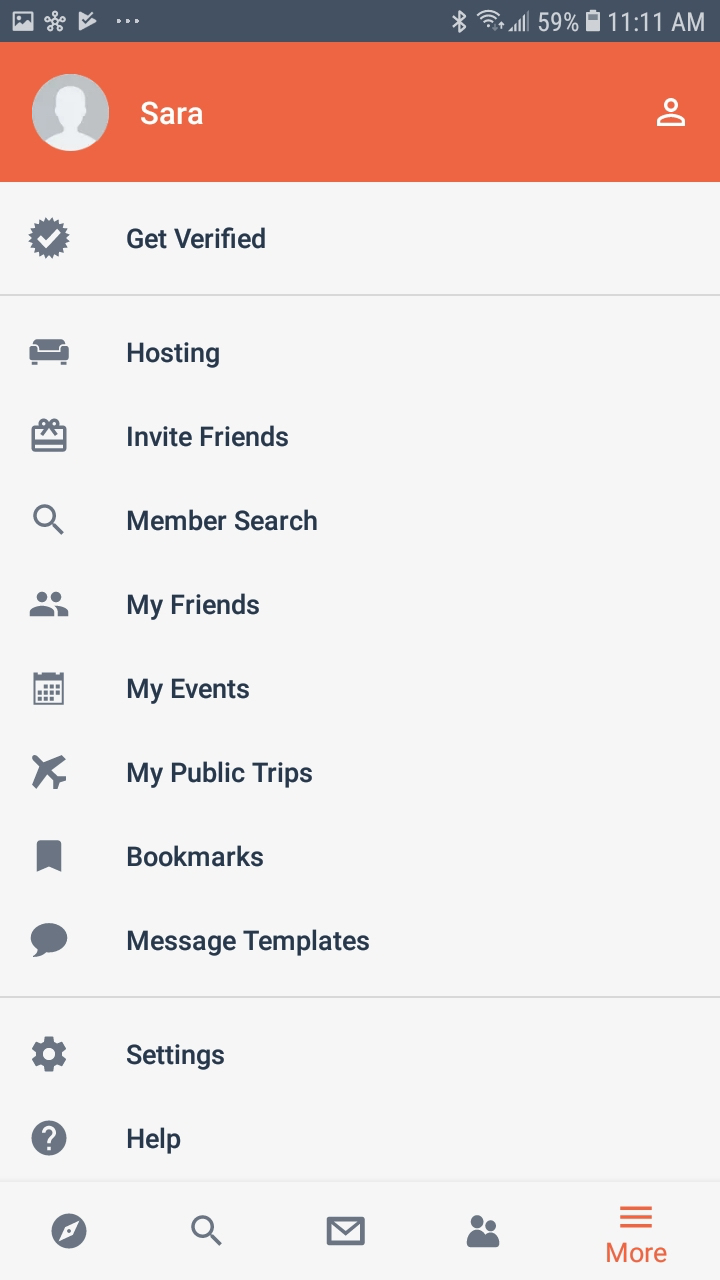Icon: (32, 74, 110, 153), (29, 217, 72, 260), (31, 1120, 68, 1156), (31, 923, 69, 958), (52, 1213, 88, 1249), (31, 418, 68, 453), (32, 1036, 67, 1073), (326, 1216, 366, 1246), (466, 1214, 500, 1248), (33, 672, 65, 706), (30, 591, 70, 617), (33, 504, 65, 536), (191, 1214, 223, 1246), (657, 98, 686, 128), (37, 840, 63, 873), (619, 1205, 653, 1229)
Image: (32, 755, 68, 790), (29, 339, 70, 366)
Text: (128, 929, 370, 957), (128, 761, 313, 789), (128, 509, 318, 532), (128, 425, 289, 448), (128, 593, 260, 621), (128, 678, 250, 705), (127, 228, 266, 250), (128, 845, 264, 867), (127, 1044, 225, 1071), (128, 342, 220, 369), (142, 101, 204, 127), (128, 1127, 182, 1155), (606, 1241, 667, 1263)
UpperTaskBar: (1, 1, 720, 43)
